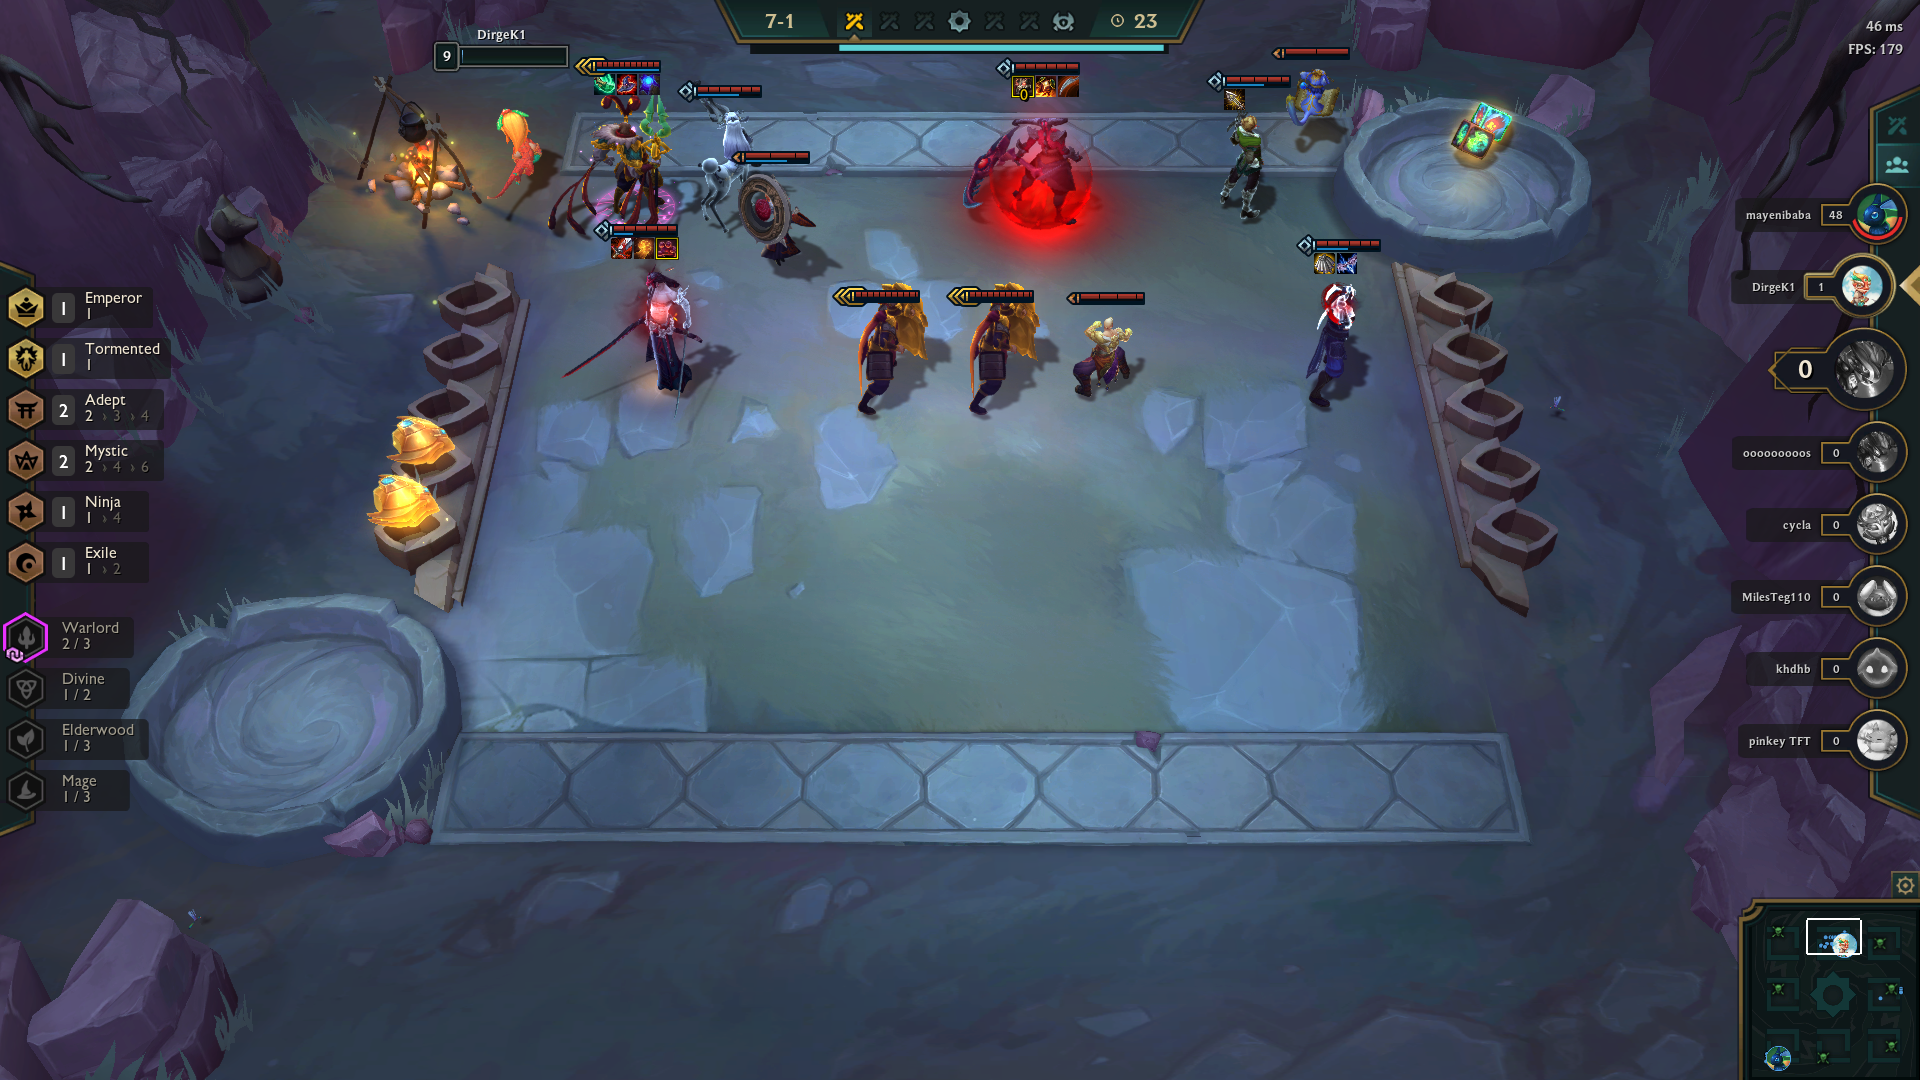1star_leesin: (1058, 278, 1155, 417)
1star_yuumi: (1269, 36, 1361, 164)
1star_zilean: (721, 140, 833, 291)
2star_ezreal: (1189, 55, 1309, 251)
2star_kayn: (951, 47, 1110, 251)
2star_lillia: (666, 67, 786, 251)
2star_shen: (1278, 225, 1398, 419)
2star_yone: (551, 215, 725, 431)
3star_azir: (537, 44, 688, 251)
3star_azir_chosen: (541, 44, 692, 251)
3star_azirsoldier: (938, 266, 1064, 433), (819, 266, 945, 433)
item_bluebuff: (630, 65, 665, 100)
item_bt: (603, 228, 638, 262)
item_dclaw: (1051, 67, 1087, 102)
item_hoj: (628, 229, 663, 265)
item_ie: (1218, 82, 1253, 117)
item_negatron: (1309, 245, 1344, 280)
item_rabadon: (609, 63, 644, 98)
item_shojin: (587, 66, 622, 102)
item_spark: (1331, 244, 1366, 280)
item_sunfire: (1029, 69, 1064, 104)
item_thief: (647, 229, 683, 265)
item_titan: (1007, 69, 1043, 104)
trait_adept2: (1, 378, 179, 433)
trait_divine1: (1, 659, 179, 713)
trait_elderwood1: (1, 709, 179, 764)
trait_emperor1: (1, 280, 179, 334)
trait_exile1: (1, 533, 179, 587)
trait_mage1: (1, 764, 179, 818)
trait_mystic2: (1, 433, 179, 487)
trait_ninja1: (1, 483, 179, 537)
trait_tormented1: (1, 332, 179, 386)
trait_warlord2: (1, 613, 179, 667)
trait_warlord_chosen: (1, 607, 57, 665)
